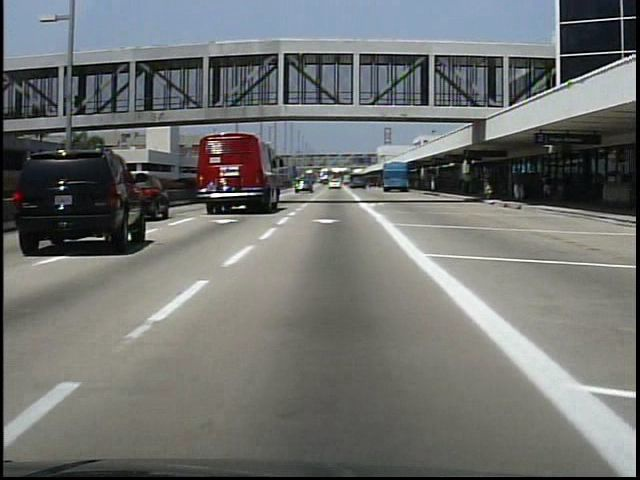person: (538, 169, 556, 204)
